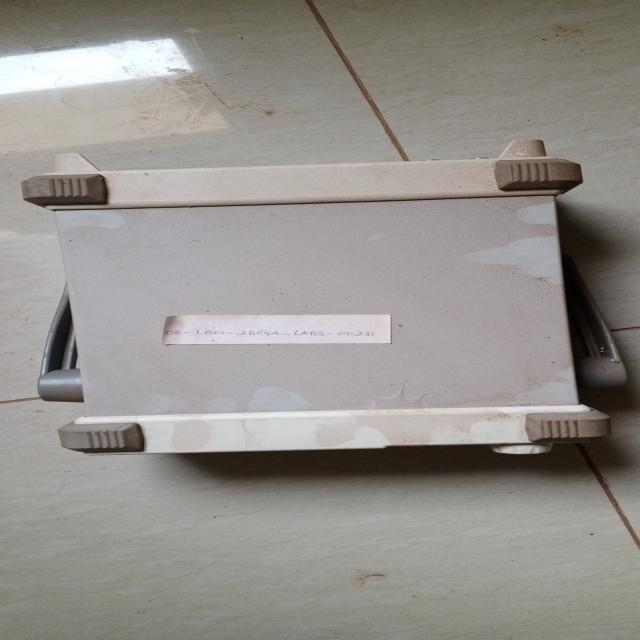Function Arbitrary Wave Form Generator 25Mhz: (8, 140, 628, 478)
